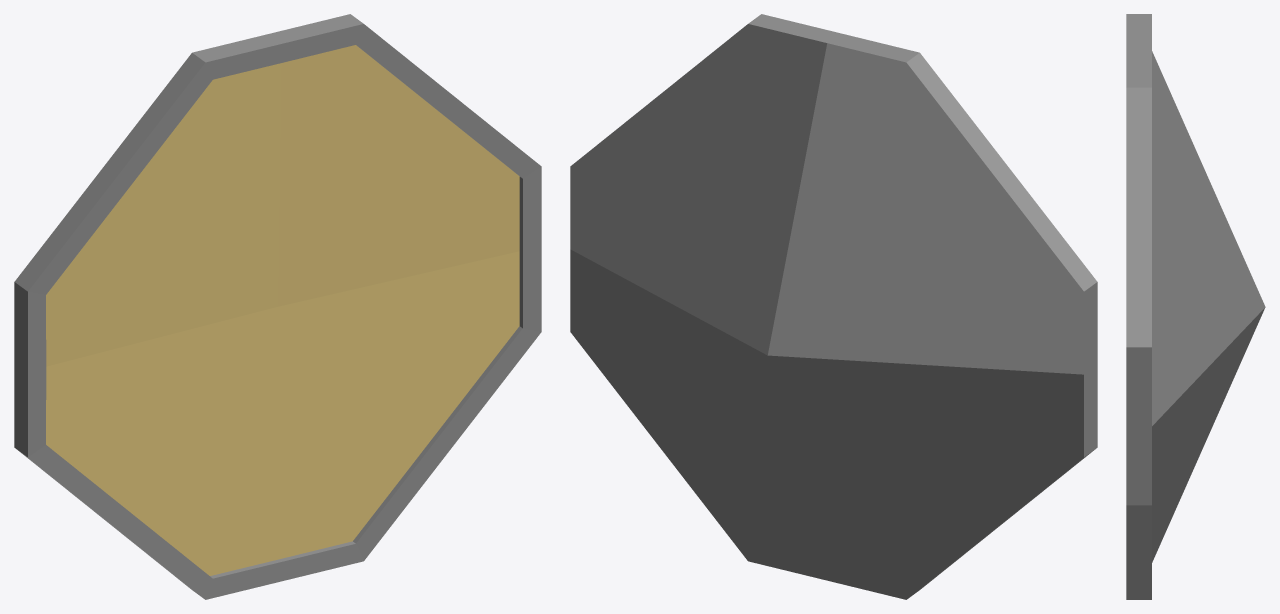
Rendered from dyson collector.fbx.
The picture shows the model from 3 angles, left to right: view 1: azimuth 30°, elevation 25°; view 2: azimuth 150°, elevation 25°; view 3: azimuth 270°, elevation 25°; orthographic projection. The views are drawn at different scales.
Visible parts, largest first — view 1: Plane; view 2: Plane; view 3: Plane.
Boxes of the visible parts, box(x1,y1,x2,y2) form: Plane: box(14, 14, 541, 599); Plane: box(570, 14, 1097, 599); Plane: box(1126, 14, 1265, 599).
Bounding box in the file's own units: 200 × 200 × 49.24.
